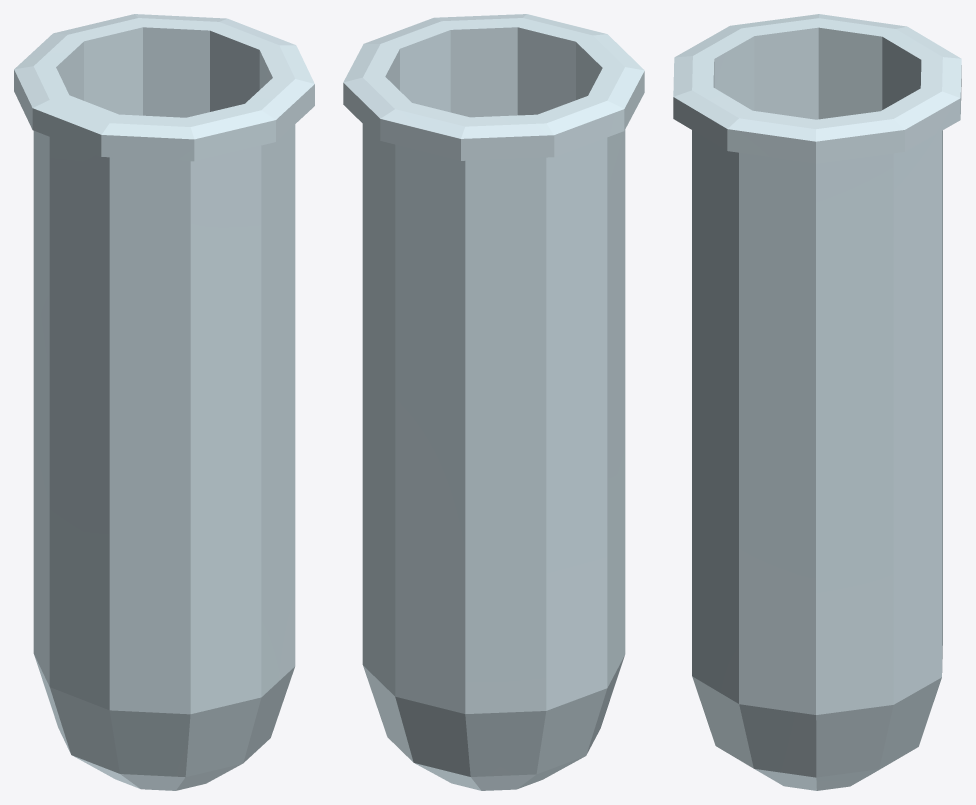
3 views of the same model, side by side, from view 1: azimuth 30°, elevation 25°; view 2: azimuth 150°, elevation 25°; view 3: azimuth 270°, elevation 25° (orthographic).
Parts seen in each view (by area): view 1: test_tube_3; view 2: test_tube_3; view 3: test_tube_3.
Boxes of the visible parts, <box> form: test_tube_3: <box>14,14,314,790</box>; test_tube_3: <box>343,14,644,790</box>; test_tube_3: <box>673,14,961,790</box>.
Bounding box in the file's own units: 0.0291 × 0.0737 × 0.0278.
1 material, 1 textured.
